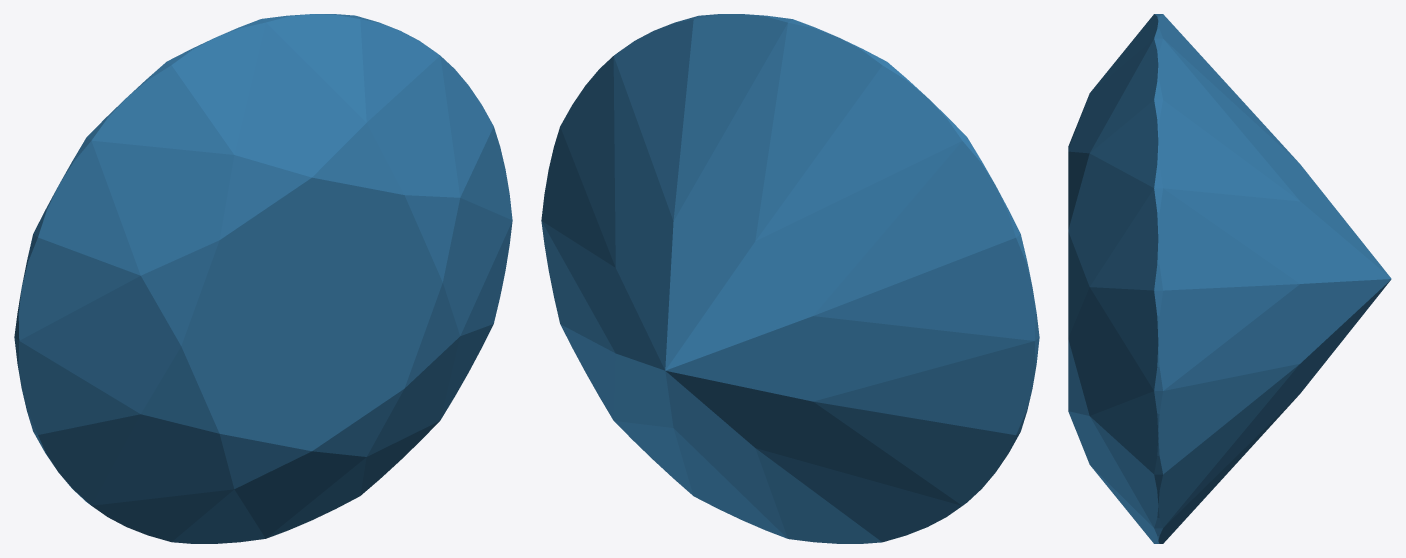
Rendered from bette.glb.
3 renders of one model, left to right at view 1: azimuth 30°, elevation 25°; view 2: azimuth 150°, elevation 25°; view 3: azimuth 270°, elevation 25°, orthographic. The views are drawn at different scales.
Visible parts, largest first — view 1: Bette; view 2: Bette; view 3: Bette.
Part boxes in pixels (x1,y1,x2,y2): Bette: [14, 14, 512, 543]; Bette: [541, 14, 1039, 543]; Bette: [1068, 14, 1391, 543].
Bounding box in the file's own units: 2.12 × 2.12 × 1.3.
